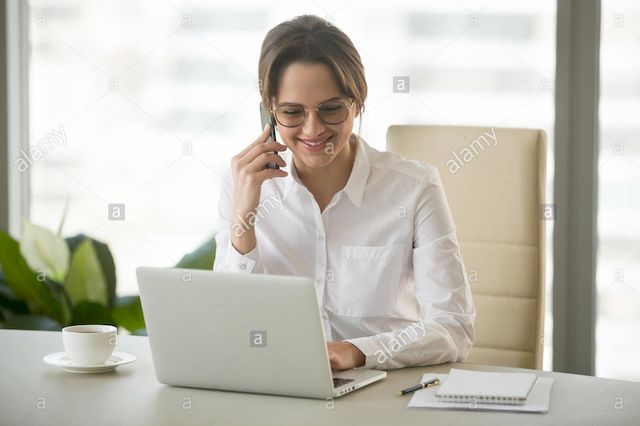phone: (263, 106, 281, 175)
talk: (227, 94, 357, 202)
